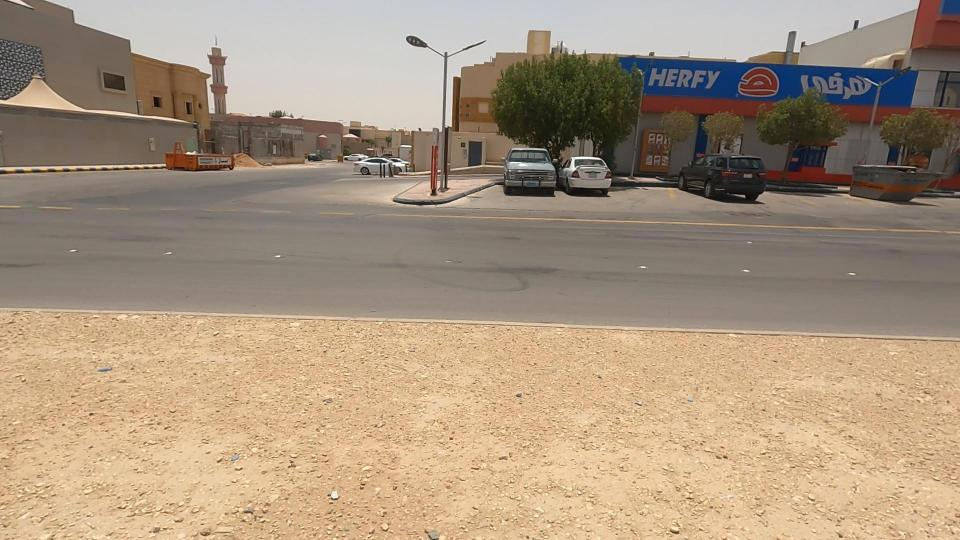CLUTTER_SIDEWALK: (315, 255, 960, 540), (0, 253, 616, 540)
